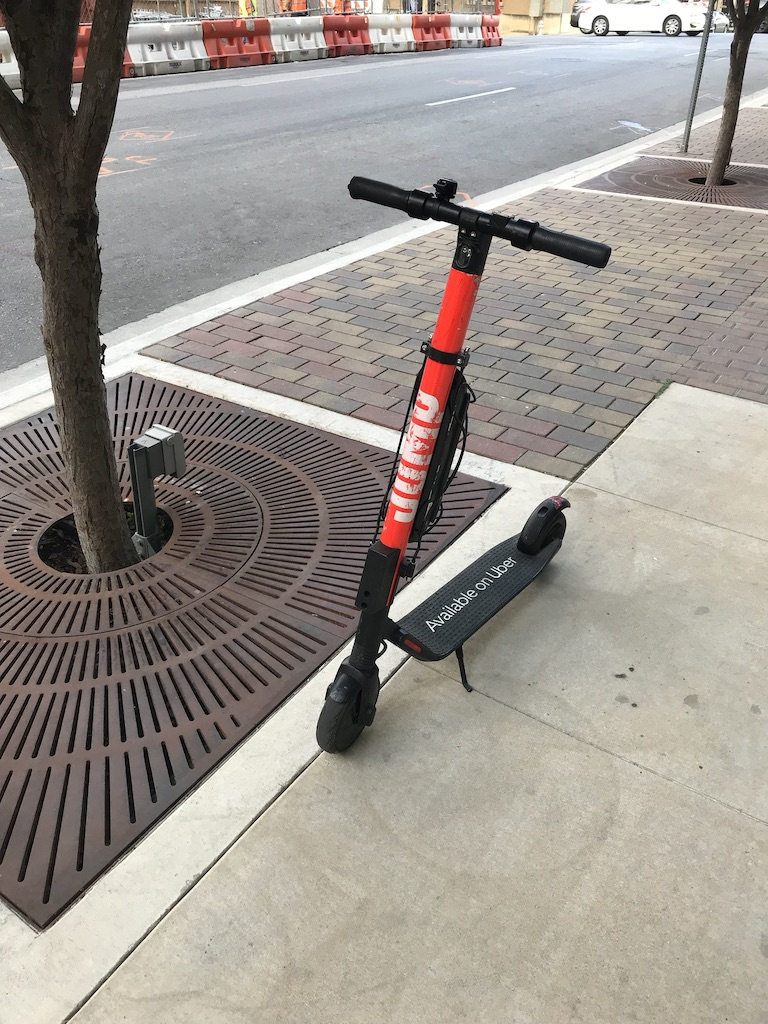scooter: (316, 174, 612, 755)
